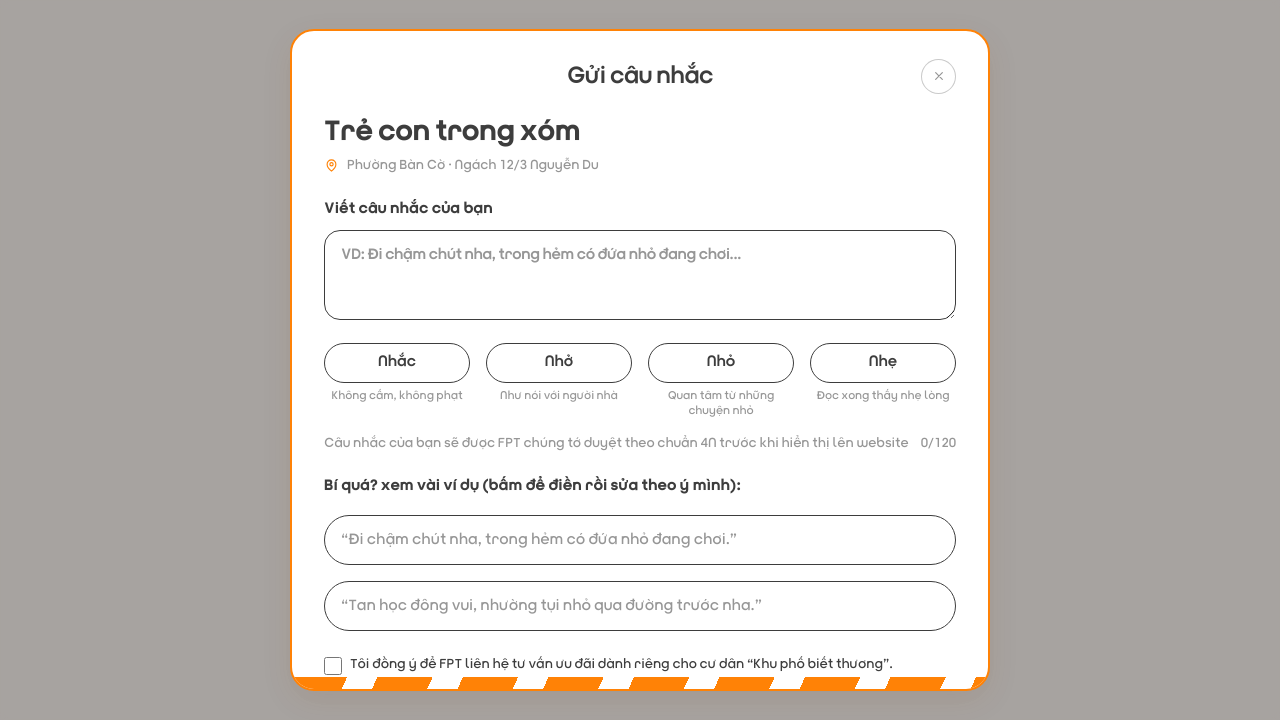
Test: SuggestModal — luật nghiệp vụ › tick nhận ưu đãi thì hiện ô SĐT và bắt buộc điền
Expected: the text "Trẻ con trong xóm" is shown, x1=324 y1=117 x2=580 y2=148
Expected: the text "Số điện thoại" is not shown
Click the checkbox: (333, 666) x1=324 y1=657 x2=342 y2=675
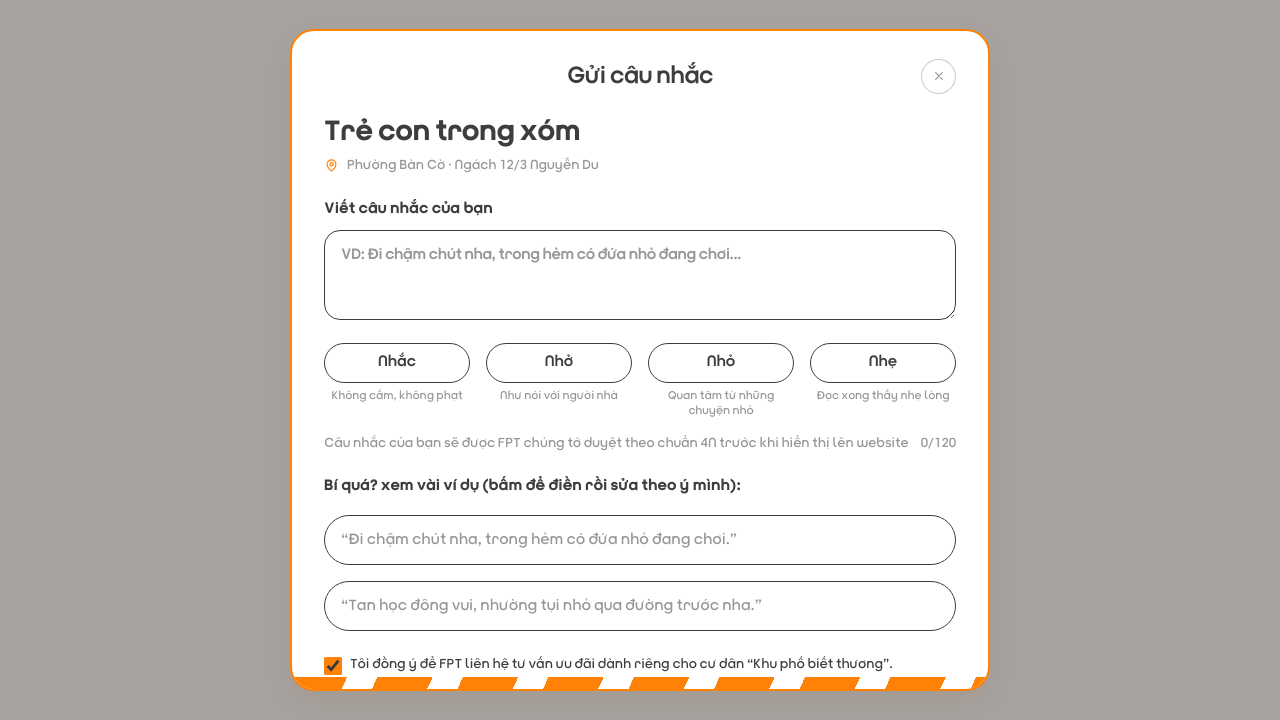
In the text box with placeholder "VD: Đi chậm chút nha, trong hẻm có đứa nhỏ đang chơi...": (640, 275) x1=324 y1=230 x2=956 y2=320, type "Đi chậm chút nha"
(page scrolled)
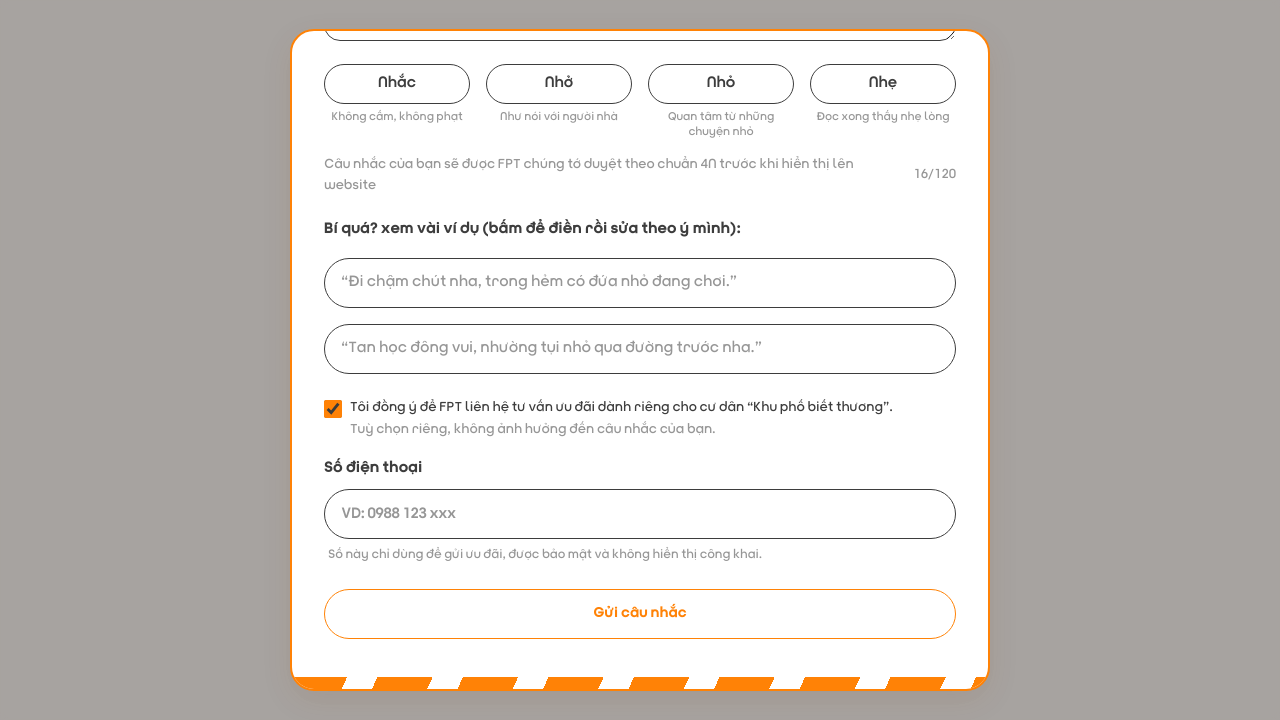
Click the button "Gửi câu nhắc": (640, 614) x1=324 y1=589 x2=956 y2=639
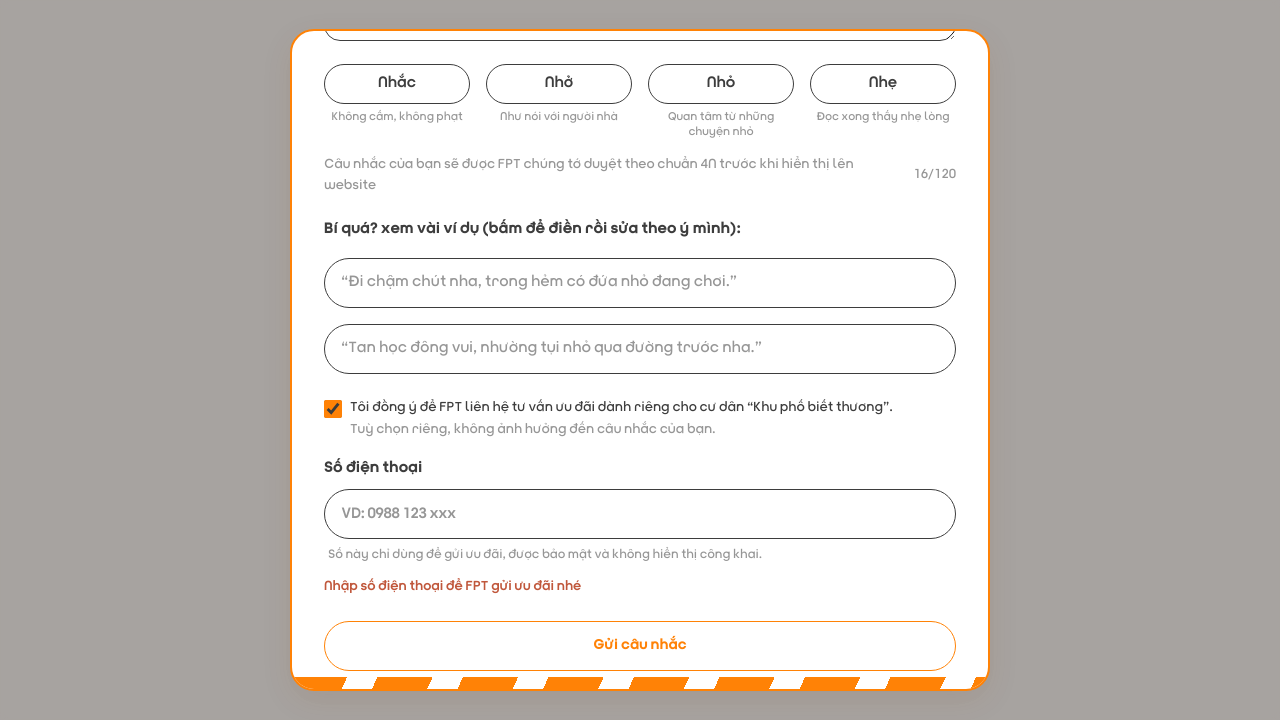
Expected: the text "Nhập số điện thoại để FPT gửi ưu đãi nhé" is shown, x1=324 y1=579 x2=581 y2=594
